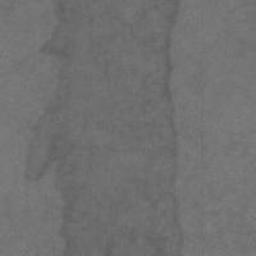Water spot: (24, 0, 183, 256)
